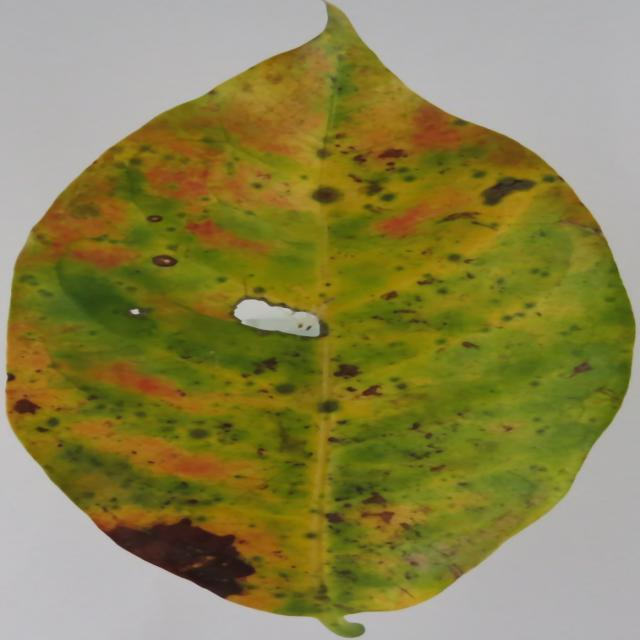DeficienciaNutricional-Fosforo: (7, 5, 634, 637)
